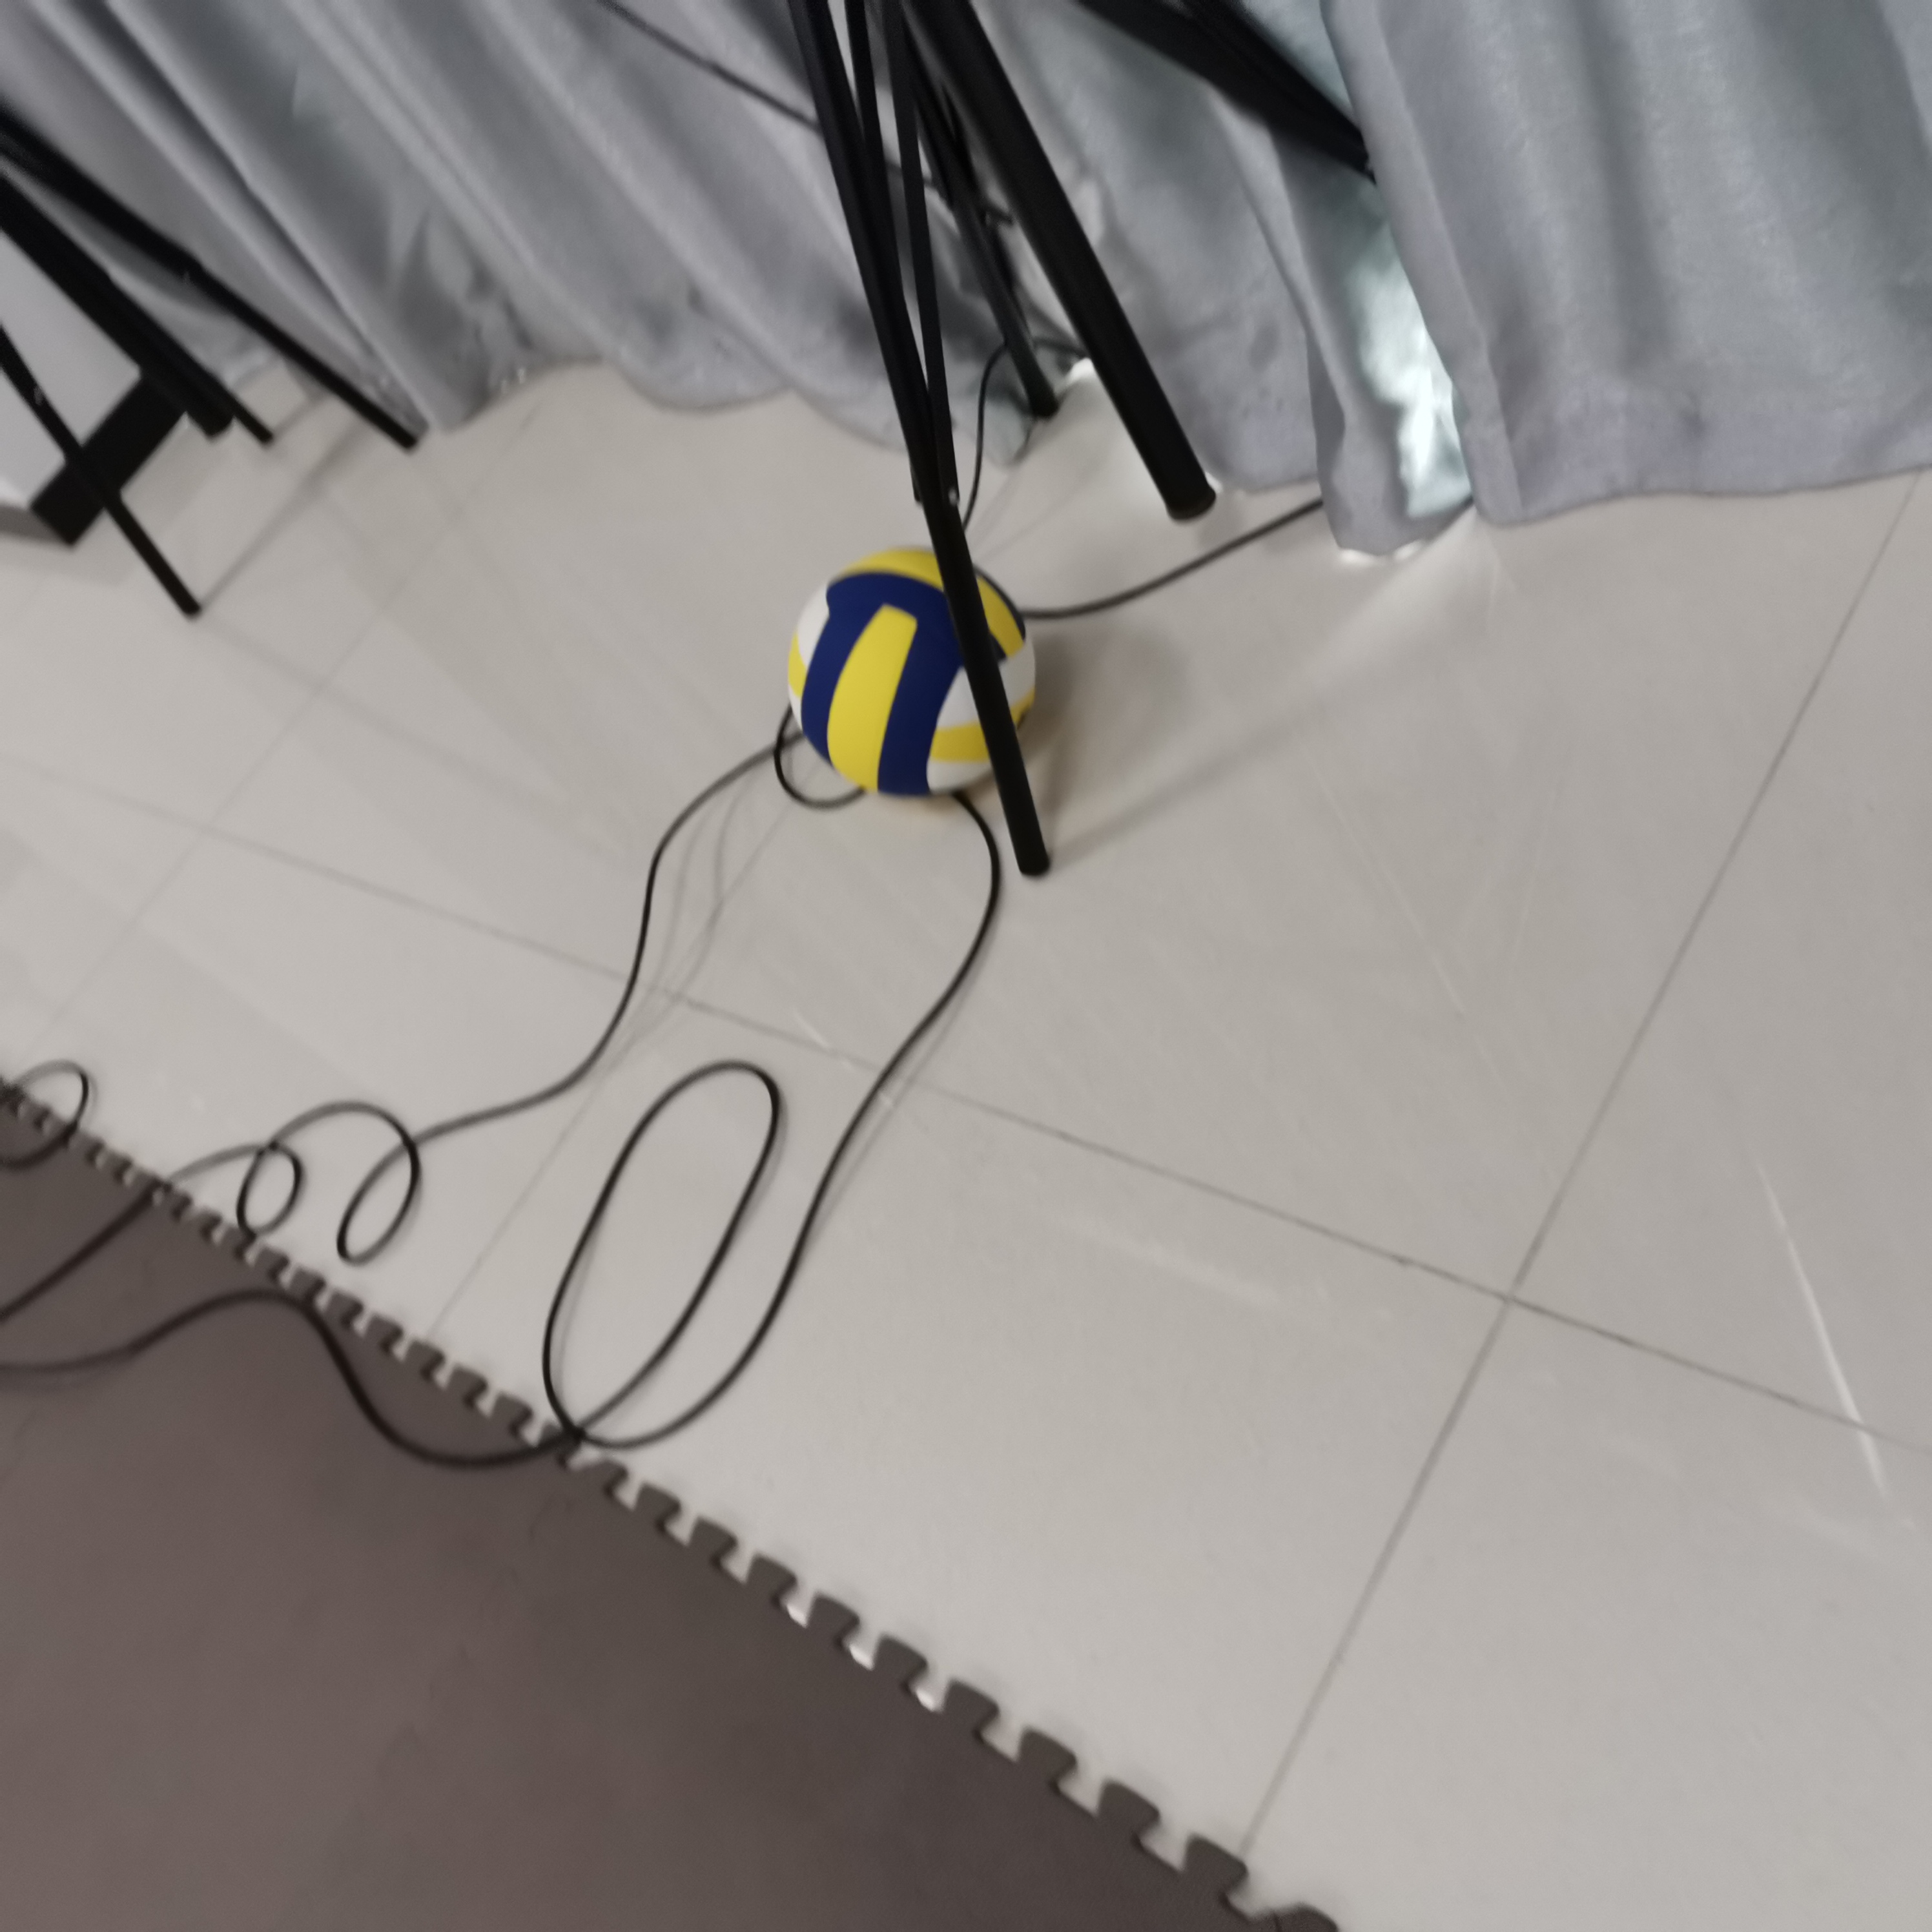volleyball: (787, 538, 1049, 809)
